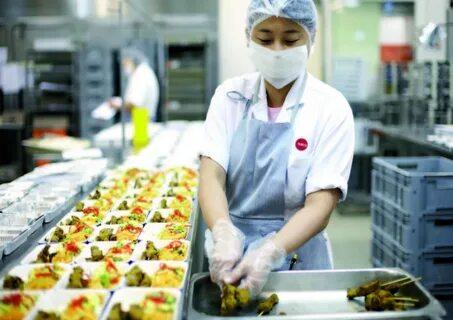hairnet: (240, 0, 331, 39)
mask: (239, 37, 320, 100)
